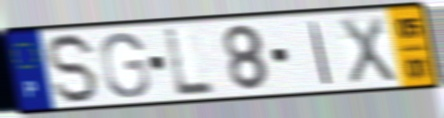8: (221, 22, 271, 93)
G: (98, 30, 152, 100)
I: (307, 20, 334, 87)
L: (163, 25, 220, 99)
S: (45, 31, 102, 107)
X: (336, 14, 399, 87)
